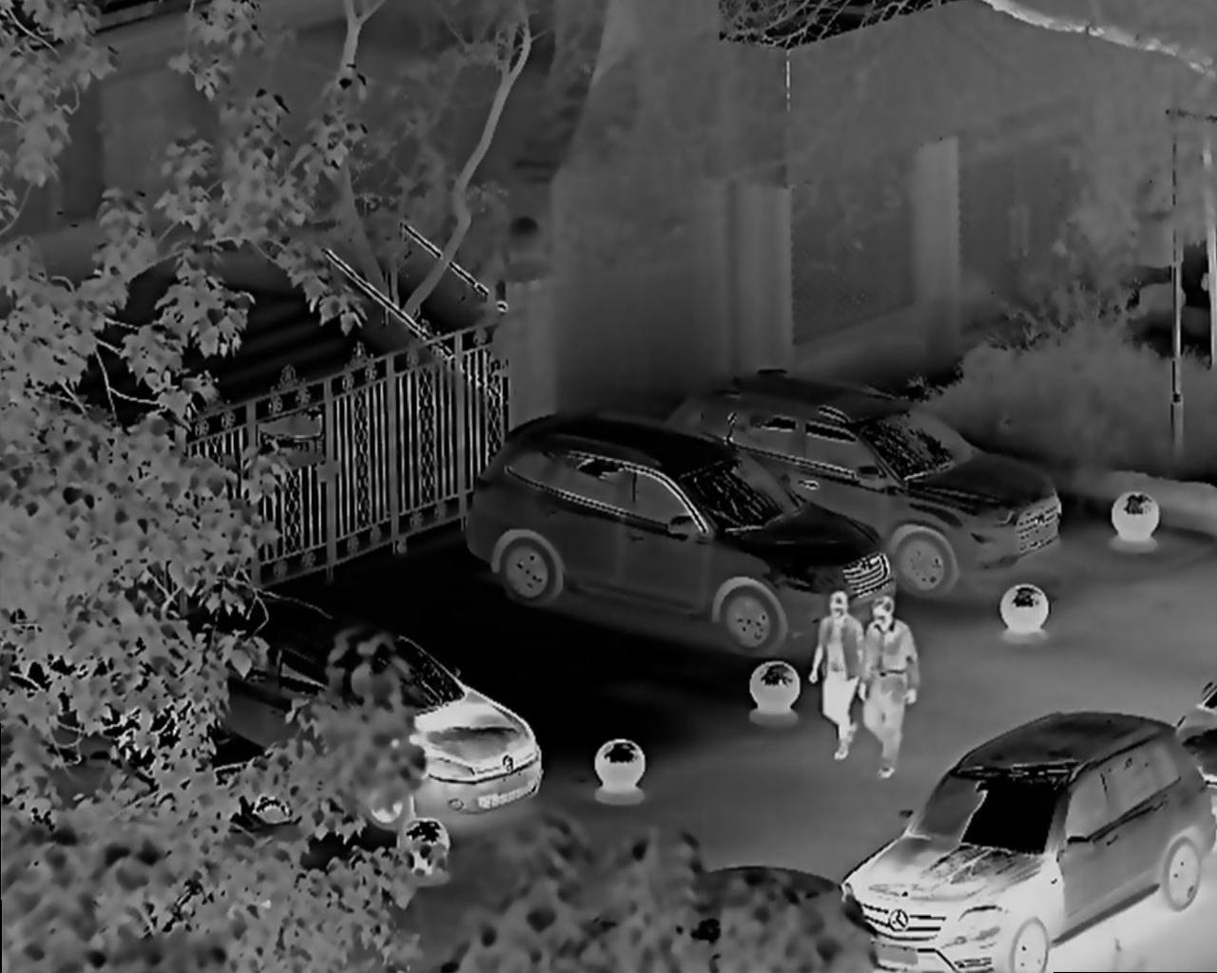person: (856, 595, 931, 780), (810, 592, 857, 766)
